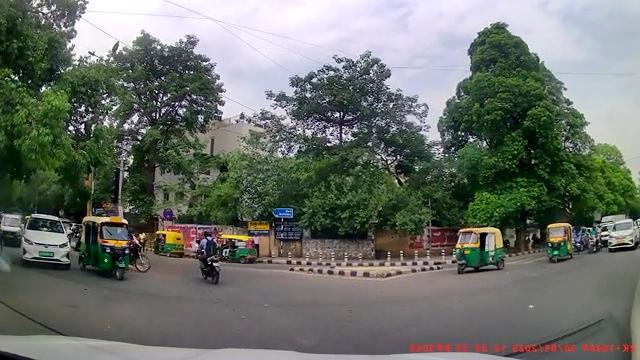motorcycle_with_helmet: (197, 229, 224, 285)
